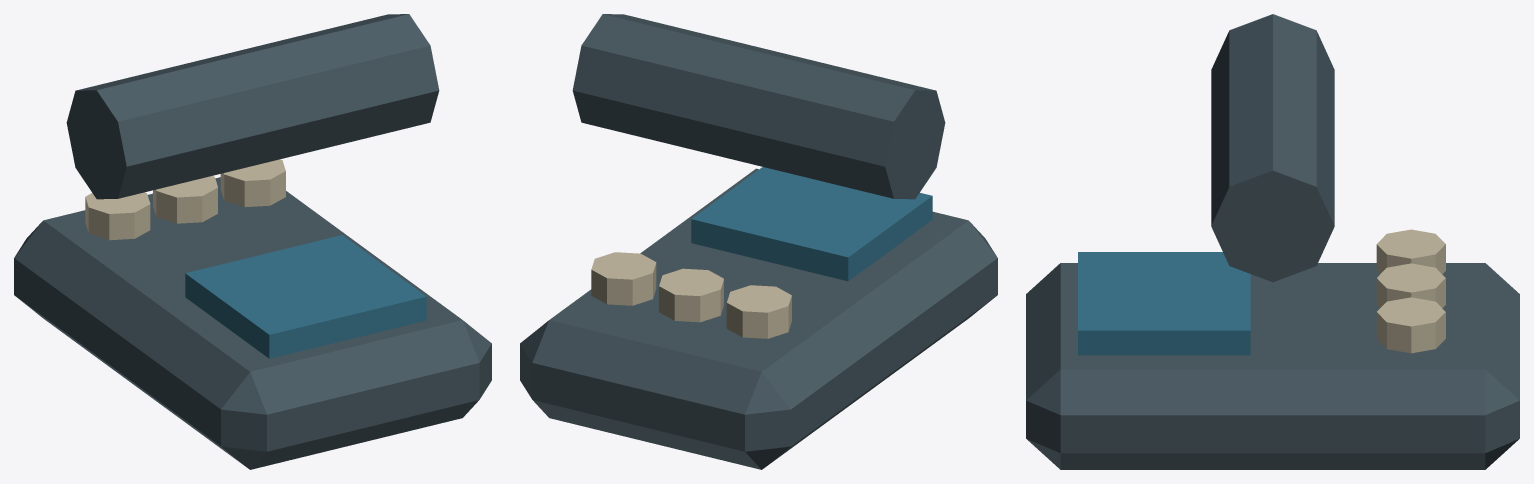
Rendered from set_hole_punch.glb.
3 views of the same model, side by side, from view 1: azimuth 30°, elevation 25°; view 2: azimuth 150°, elevation 25°; view 3: azimuth 270°, elevation 25° (orthographic). The views are drawn at different scales.
Parts seen in each view (by area): view 1: set_hole_punch; view 2: set_hole_punch; view 3: set_hole_punch.
Part boxes in pixels (x1,y1,x2,y2): set_hole_punch: (14,14,491,469); set_hole_punch: (520,14,997,469); set_hole_punch: (1026,14,1519,469).
Bounding box in the file's own units: 0.15 × 0.145 × 0.2.
